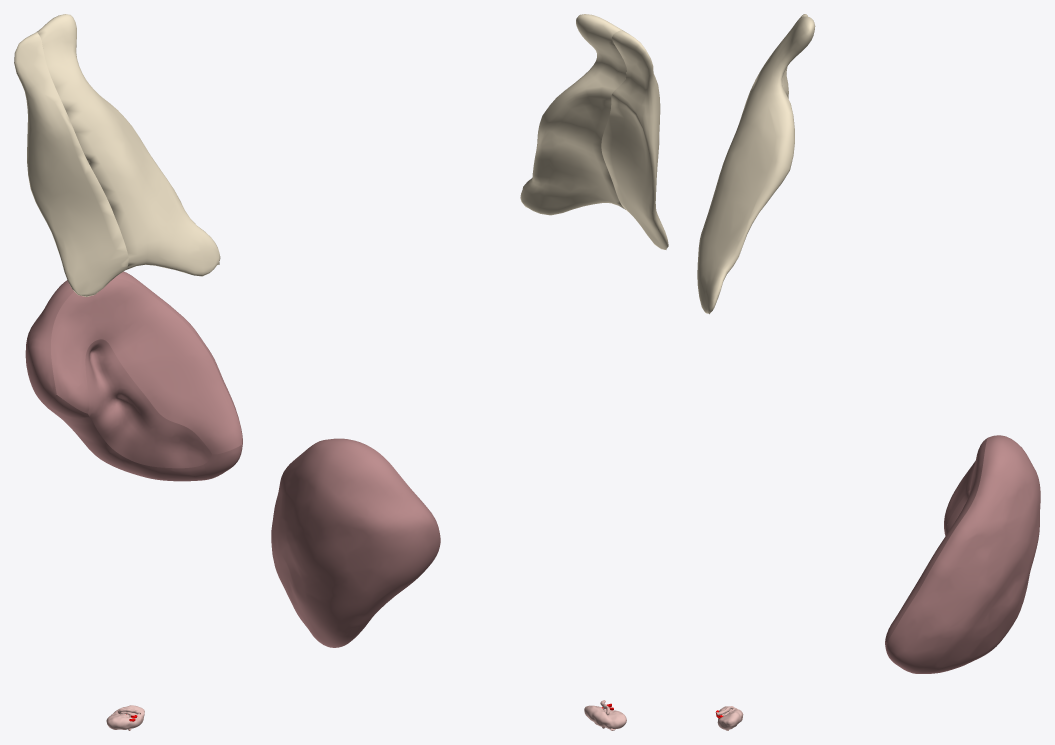
Rendered from lymphatic.glb.
The picture shows the model from 3 angles, left to right: view 1: azimuth 30°, elevation 25°; view 2: azimuth 150°, elevation 25°; view 3: azimuth 270°, elevation 25°; orthographic projection. The views are drawn at different scales.
Visible parts, largest first — view 1: gastric surface of spleen, left thymus lobe, right thymus lobe, hilum of spleen, diaphragmatic surface of spleen, renal surface of spleen, colic surface of spleen, capsule of lymph node; view 2: diaphragmatic surface of spleen, left thymus lobe, right thymus lobe, capsule of lymph node; view 3: diaphragmatic surface of spleen, left thymus lobe, gastric surface of spleen.
Boxes of the visible parts, x1,y1,x2,y2 form: gastric surface of spleen: (51, 278, 242, 454); left thymus lobe: (37, 14, 220, 276); right thymus lobe: (14, 32, 128, 296); hilum of spleen: (85, 339, 211, 468); diaphragmatic surface of spleen: (25, 271, 242, 481); renal surface of spleen: (46, 395, 210, 481); colic surface of spleen: (204, 445, 242, 478); capsule of lymph node: (106, 705, 144, 729); diaphragmatic surface of spleen: (271, 438, 440, 647); left thymus lobe: (520, 14, 626, 215); right thymus lobe: (601, 30, 668, 249); capsule of lymph node: (584, 705, 626, 729); diaphragmatic surface of spleen: (887, 435, 1040, 673); left thymus lobe: (697, 16, 815, 314); gastric surface of spleen: (885, 438, 987, 642).
Size of the model in its own units: 0.148 by 0.3533 by 0.1576.
